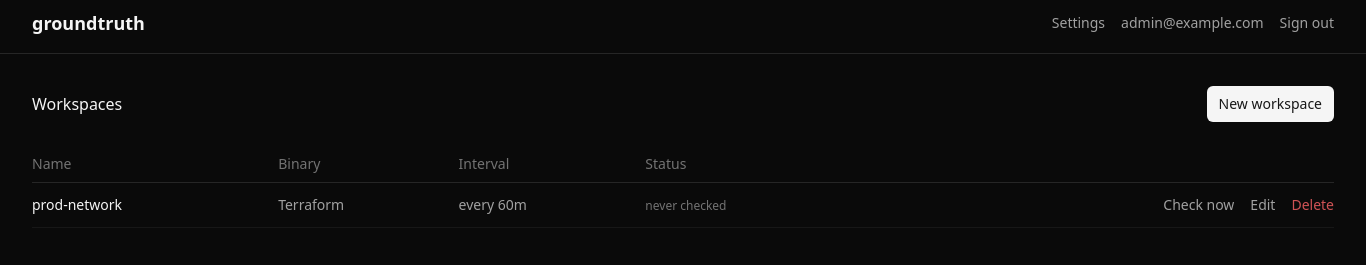
Test case: WorkspacesPage › explains why a check could not be started instead of failing silently
Click the button "Check now": click(1199, 205) 1163,195 -> 1234,215
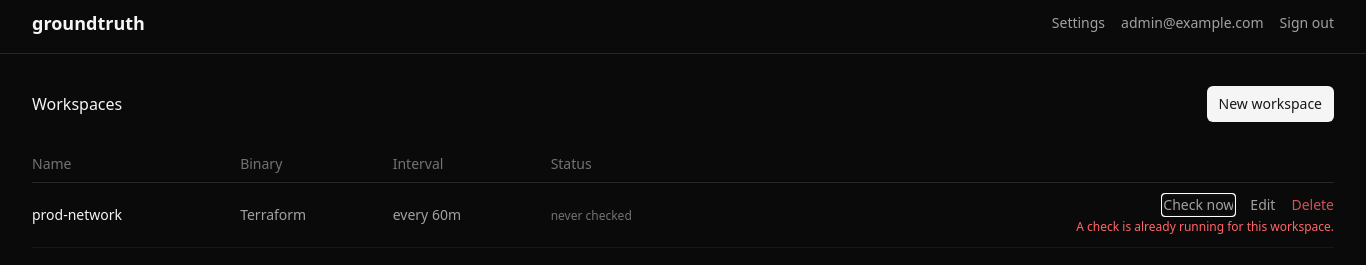
Now the message shows "already running", box 1076,218 -> 1334,235
